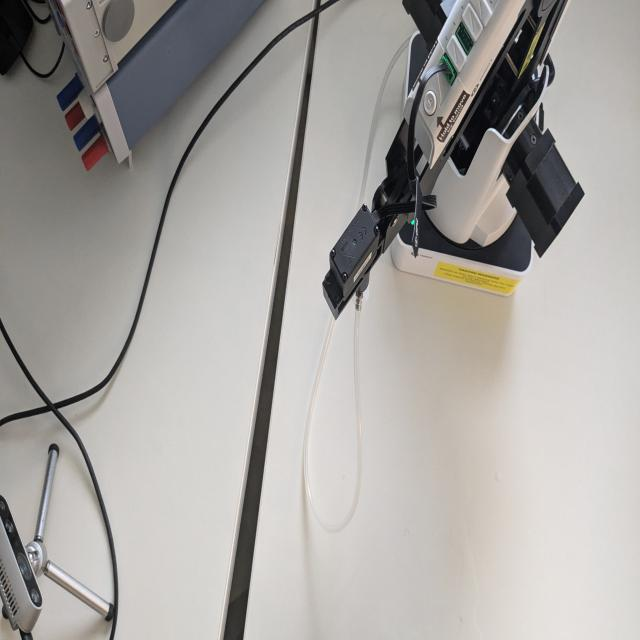Robot-end-effector-HF8z: (320, 198, 386, 324)
